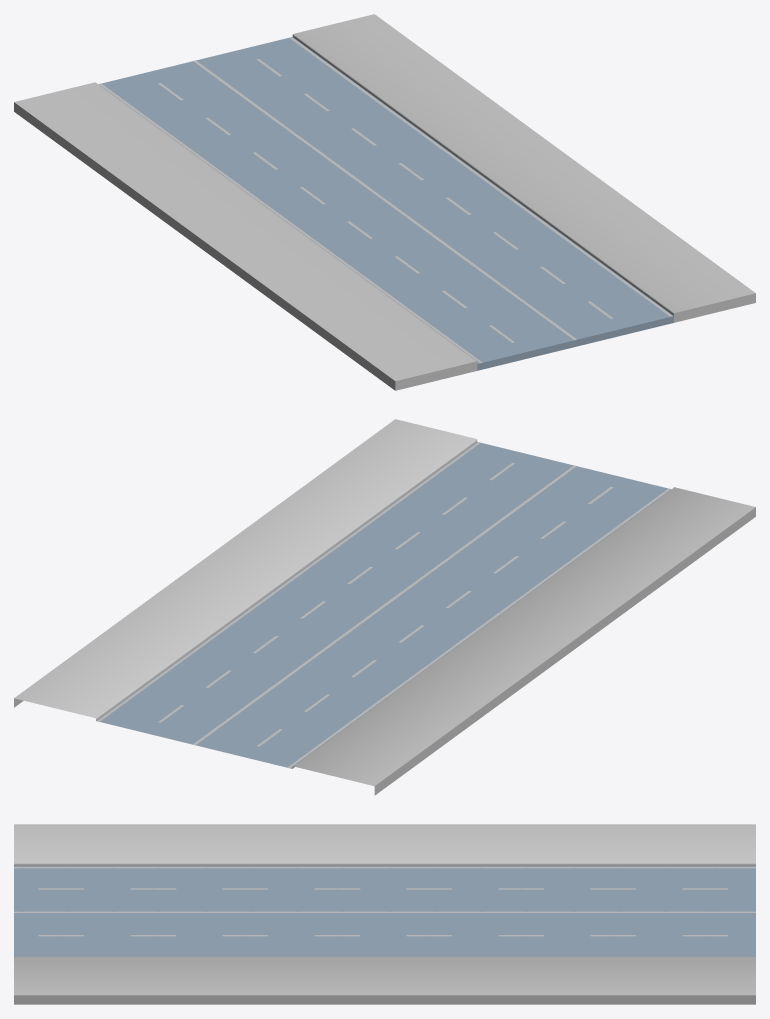
Rendered from Road_011.fbx.
3 renders of one model, top to bottom at view 1: azimuth 30°, elevation 25°; view 2: azimuth 150°, elevation 25°; view 3: azimuth 270°, elevation 25°, orthographic. The views are drawn at different scales.
Parts seen in each view (by area): view 1: Road_011; view 2: Road_011; view 3: Road_011.
Boxes of the visible parts, box(x1,y1,x2,y2) form: Road_011: box(14, 14, 755, 390); Road_011: box(14, 419, 755, 795); Road_011: box(14, 824, 755, 1004).
Bounding box in the file's own units: 2202 × 56.17 × 4033.
